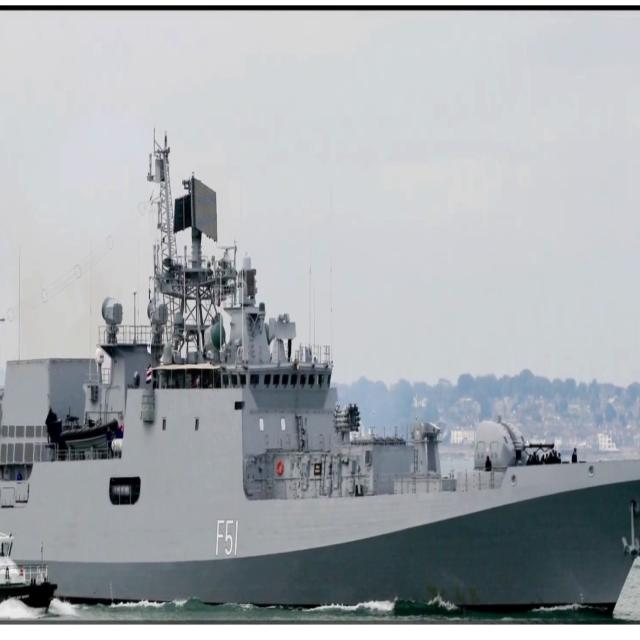OCR: (212, 512, 246, 564)
